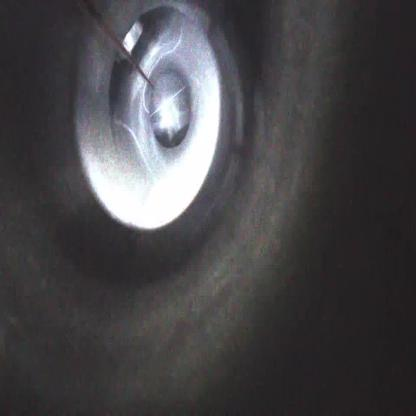NoCrack: (73, 2, 243, 259)
